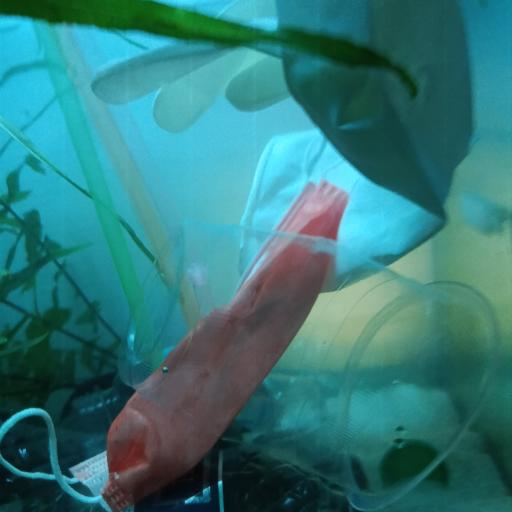glove: (95, 0, 473, 297)
mask: (1, 178, 347, 502)
plastic_bottle: (68, 380, 122, 445)
plastic_cup: (121, 219, 502, 499)
plastic_straw: (34, 22, 159, 364), (54, 23, 163, 251)
